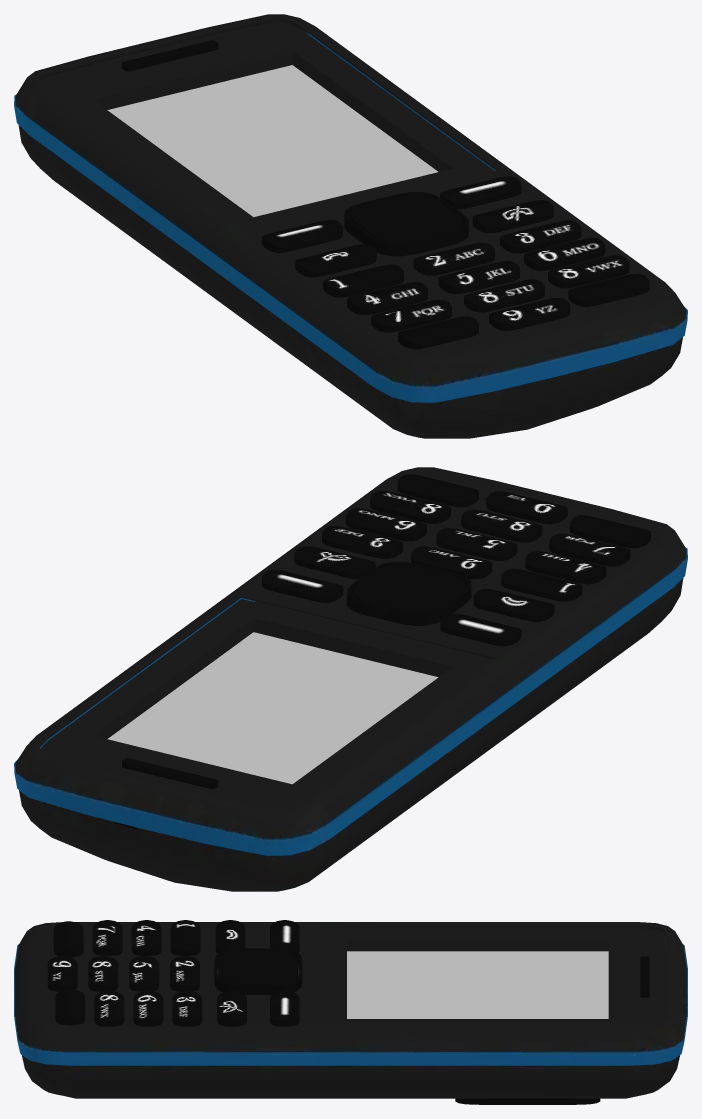
Rendered from item_phone.glb.
3 views of the same model, one above another, from view 1: azimuth 30°, elevation 25°; view 2: azimuth 150°, elevation 25°; view 3: azimuth 270°, elevation 25° (orthographic). The views are drawn at different scales.
Visible parts, largest first — view 1: telefono _telfono_mtl_0; view 2: telefono _telfono_mtl_0; view 3: telefono _telfono_mtl_0.
Part boxes in pixels (box(x1,y1,x2,y2)): telefono _telfono_mtl_0: box(14, 14, 687, 438); telefono _telfono_mtl_0: box(14, 467, 687, 891); telefono _telfono_mtl_0: box(14, 920, 687, 1104).
Bounding box in the file's own units: 2.6 × 1.09 × 6.17.
Materials: 2 (1 with a texture image).
